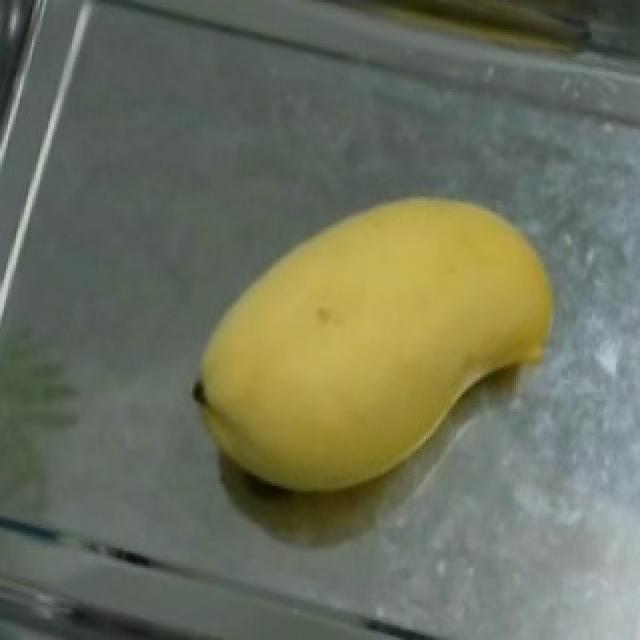fruit: (176, 139, 594, 533)
